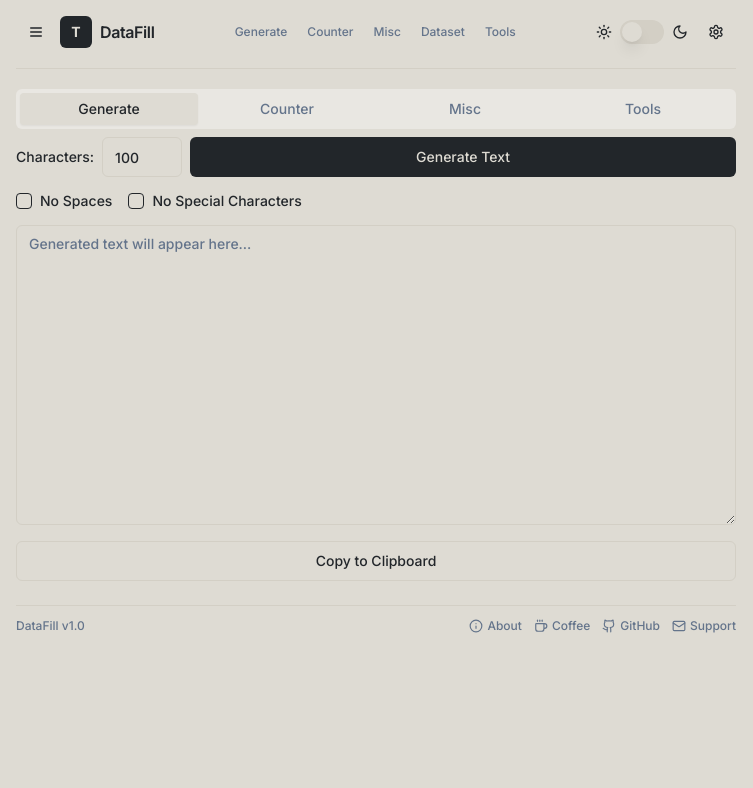
Test: DataFillUI generate extras › shows a notification when there is nothing to copy
Click the button "Copy to Clipboard" at (376, 561), box [16,541,736,581]
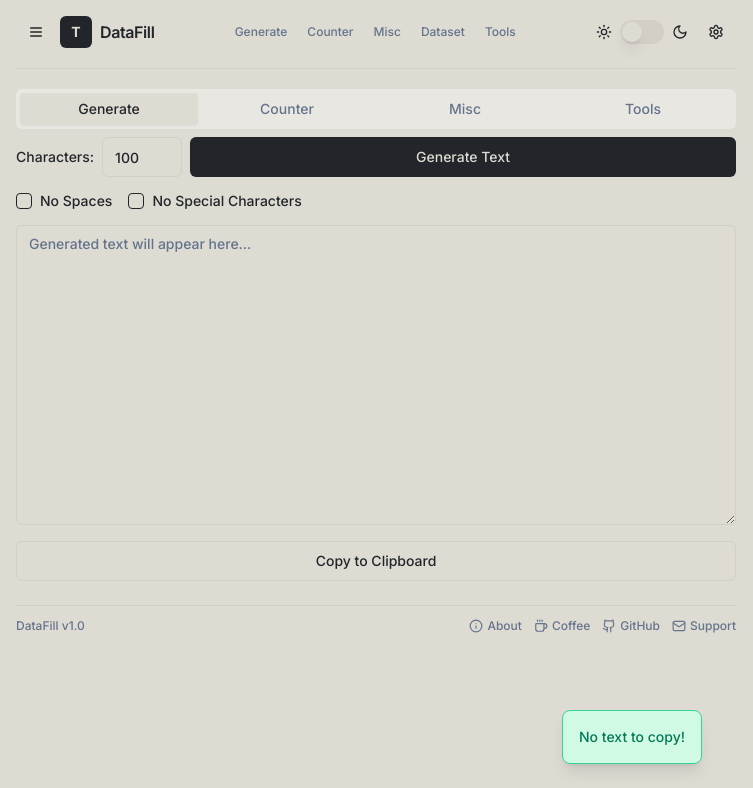
Check: the message reads "No text to copy!", box [579,728,685,745]
